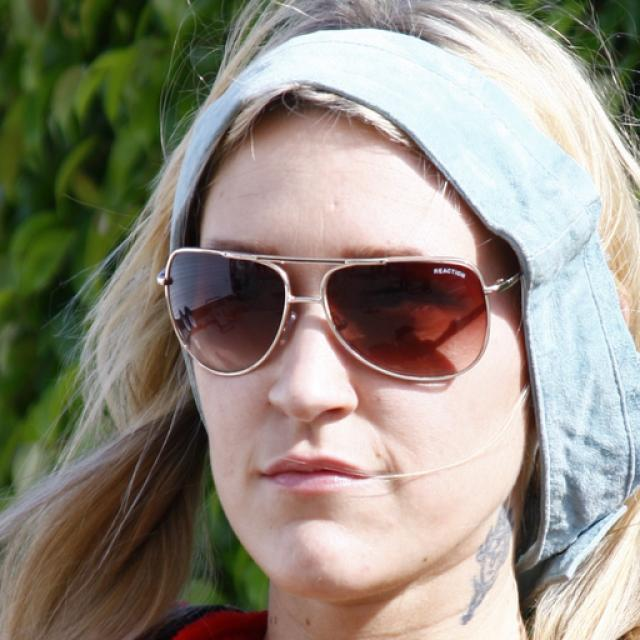neutral: (185, 85, 527, 602)
